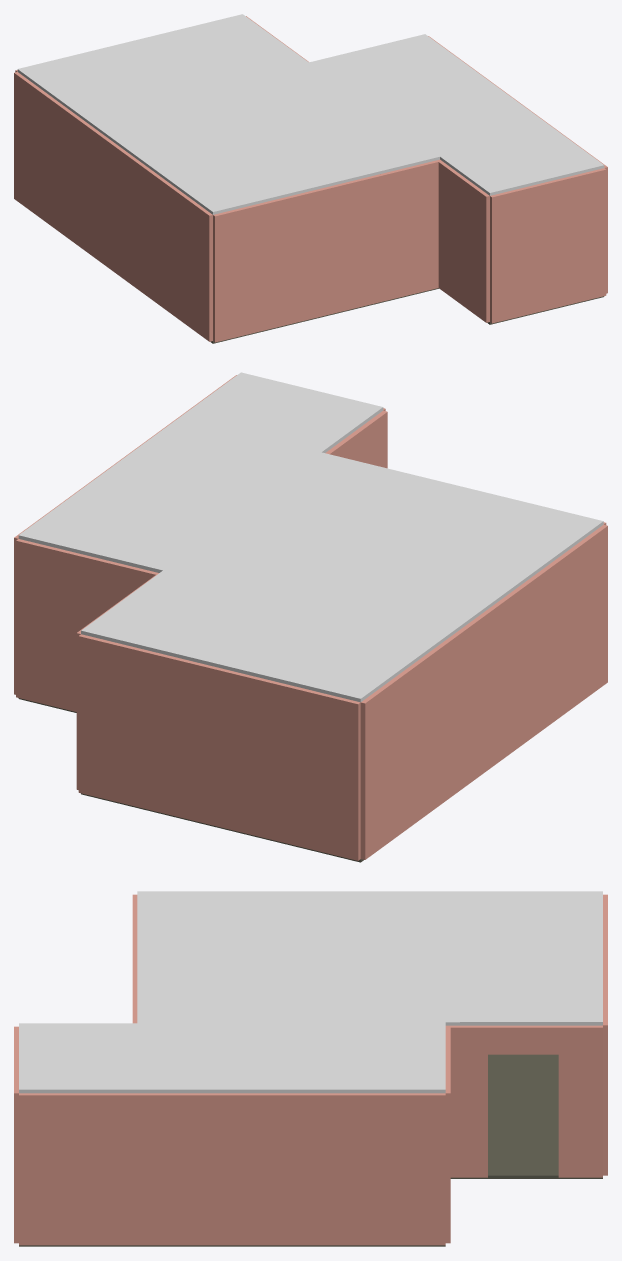
File: Room.fbx
3 renders of one model, top to bottom at view 1: azimuth 30°, elevation 25°; view 2: azimuth 150°, elevation 25°; view 3: azimuth 270°, elevation 25°, orthographic. The views are drawn at different scales.
Visible parts, largest first — view 1: Top, Wall.002, Wall.001, Wall.005, Wall.006, Bottom, Wall.003; view 2: Top, Wall, Wall.001, Wall.004, Wall.006, Wall.003; view 3: Top, Wall.003, WallFrame, Bottom, Wall, Wall.004, Wall.005, Wall.002.
Boxes of the visible parts, left/top/right/bottom form: Top: left=17, top=14, right=604, bottom=214; Wall.002: left=213, top=159, right=441, bottom=342; Wall.001: left=14, top=72, right=212, bottom=341; Wall.005: left=490, top=168, right=606, bottom=323; Wall.006: left=438, top=161, right=489, bottom=322; Bottom: left=210, top=288, right=604, bottom=343; Wall.003: left=428, top=36, right=607, bottom=293; Top: left=18, top=372, right=603, bottom=702; Wall: left=78, top=634, right=360, bottom=860; Wall.001: left=360, top=524, right=607, bottom=859; Wall.004: left=16, top=539, right=157, bottom=711; Wall.006: left=325, top=410, right=387, bottom=468; Wall.003: left=14, top=375, right=236, bottom=694; Top: left=19, top=891, right=602, bottom=1093; Wall.003: left=19, top=1093, right=445, bottom=1245; WallFrame: left=445, top=1025, right=602, bottom=1177; Bottom: left=19, top=1054, right=602, bottom=1246; Wall: left=603, top=894, right=607, bottom=1175; Wall.004: left=445, top=1025, right=450, bottom=1243; Wall.005: left=14, top=1026, right=18, bottom=1243; Wall.002: left=132, top=894, right=137, bottom=1023.
Bounding box in the file's own units: 778 × 281 × 964.
